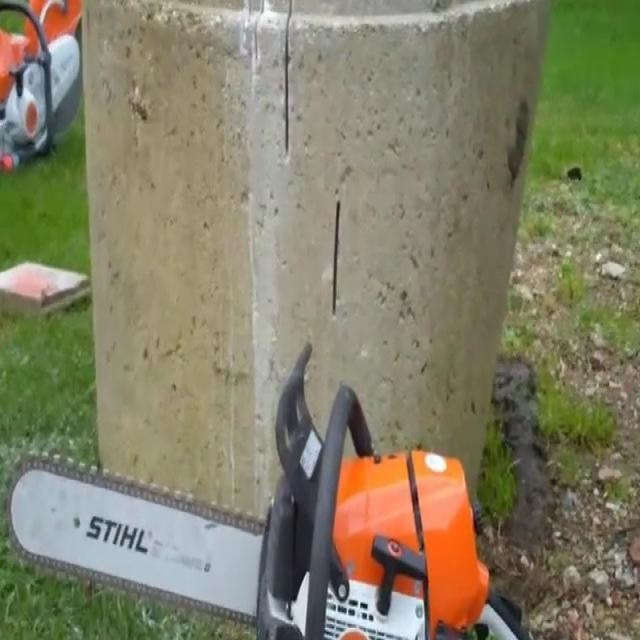Chainsaw: (1, 392, 533, 640)
